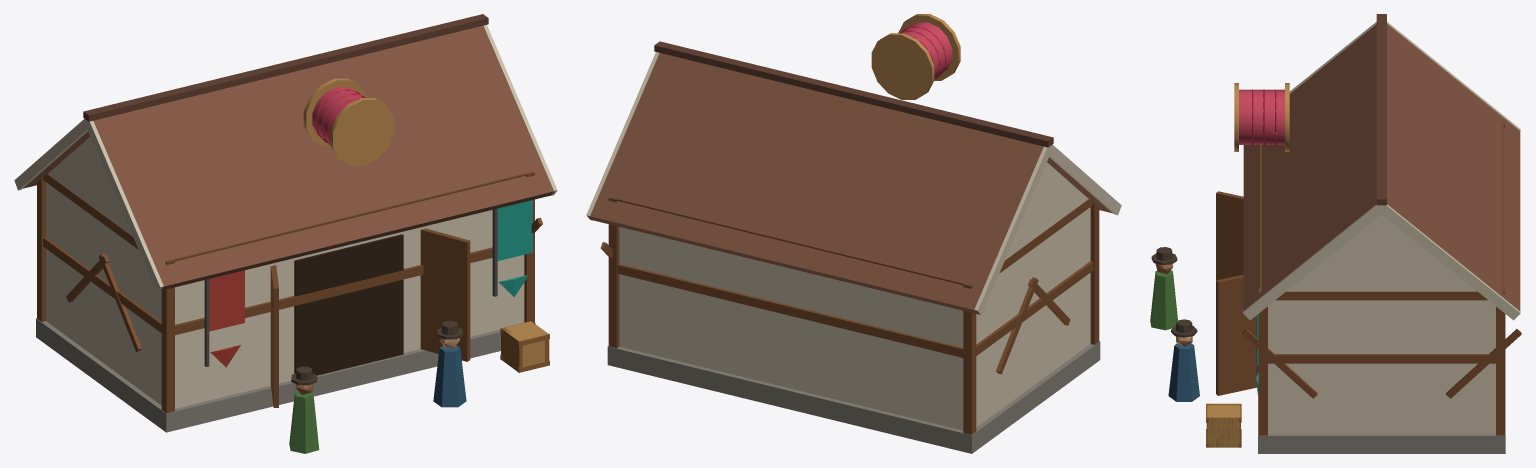
The model's file is craft_hall.glb.
3 renders of one model, left to right at view 1: azimuth 30°, elevation 25°; view 2: azimuth 150°, elevation 25°; view 3: azimuth 270°, elevation 25°, orthographic. The views are drawn at different scales.
Parts seen in each view (by area): view 1: town-craft_hall; view 2: town-craft_hall; view 3: town-craft_hall.
Part boxes in pixels (x1,y1,x2,y2): town-craft_hall: (14, 14, 557, 453); town-craft_hall: (586, 14, 1121, 453); town-craft_hall: (1150, 14, 1521, 453).
Bounding box in the file's own units: 6.66 × 4.72 × 5.64.
